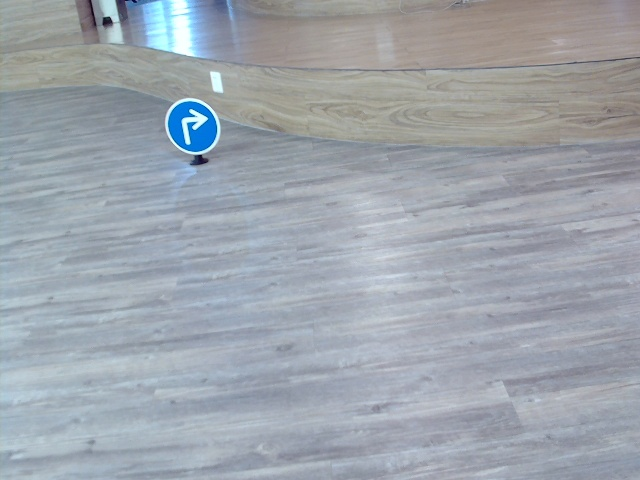turn_right: (177, 106, 205, 147)
